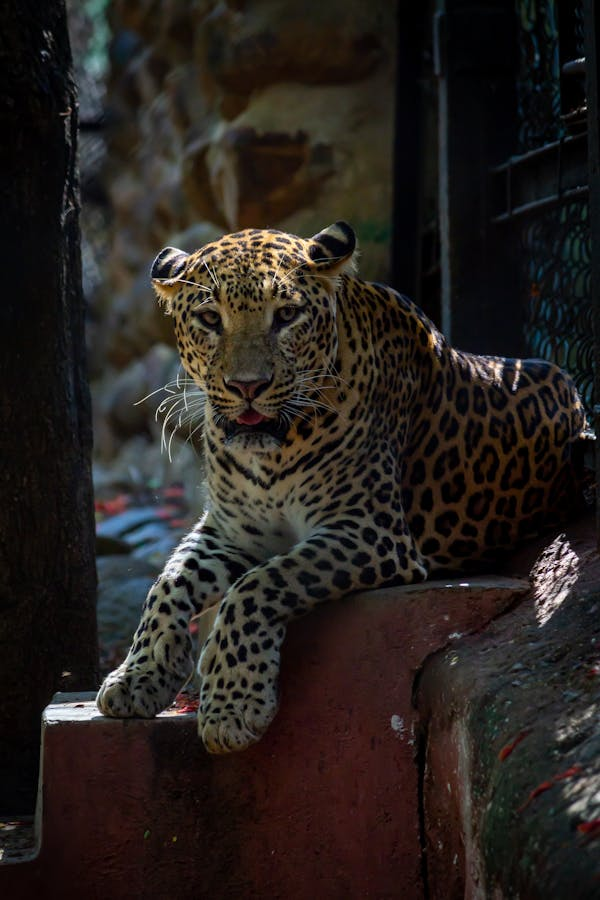Leopard: (97, 222, 588, 755)
